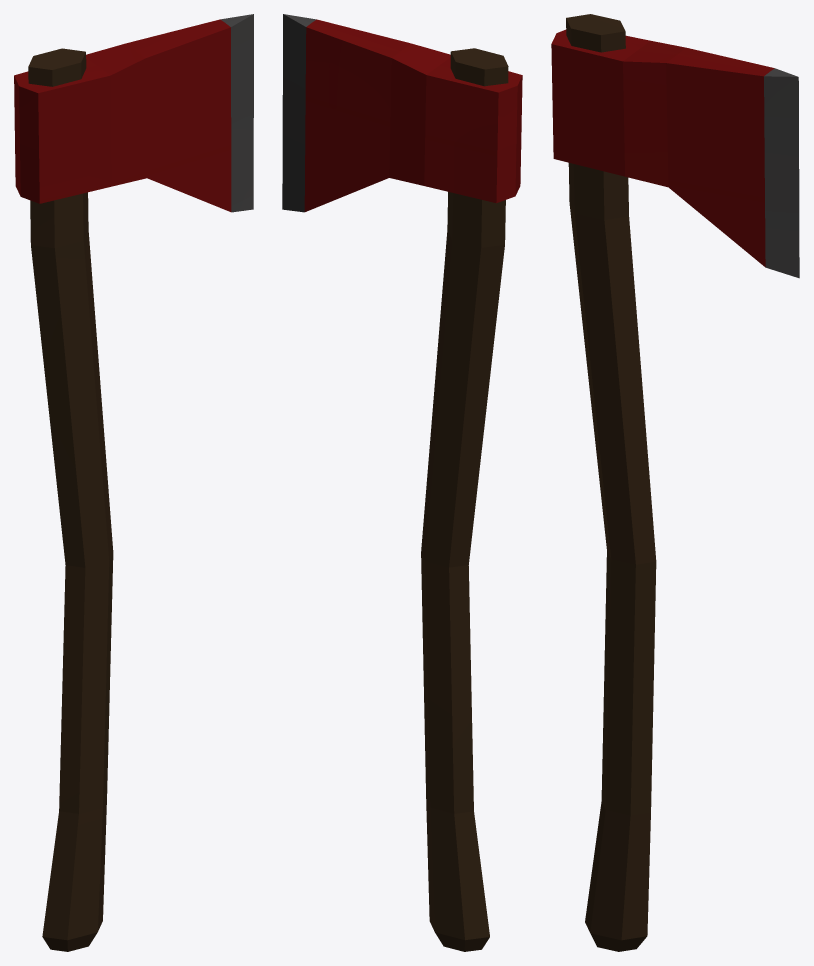
The model's file is Hatchet.fbx.
3 renders of one model, left to right at view 1: azimuth 30°, elevation 25°; view 2: azimuth 150°, elevation 25°; view 3: azimuth 330°, elevation 25°, orthographic. The views are drawn at different scales.
Parts seen in each view (by area): view 1: Hatchet; view 2: Hatchet; view 3: Hatchet.
Boxes of the visible parts, <box> form: Hatchet: <box>14,14,253,951</box>; Hatchet: <box>282,14,522,951</box>; Hatchet: <box>551,14,799,951</box>.
Bounding box in the file's own units: 10.32 × 37.36 × 2.08.
1 material, 1 textured.
